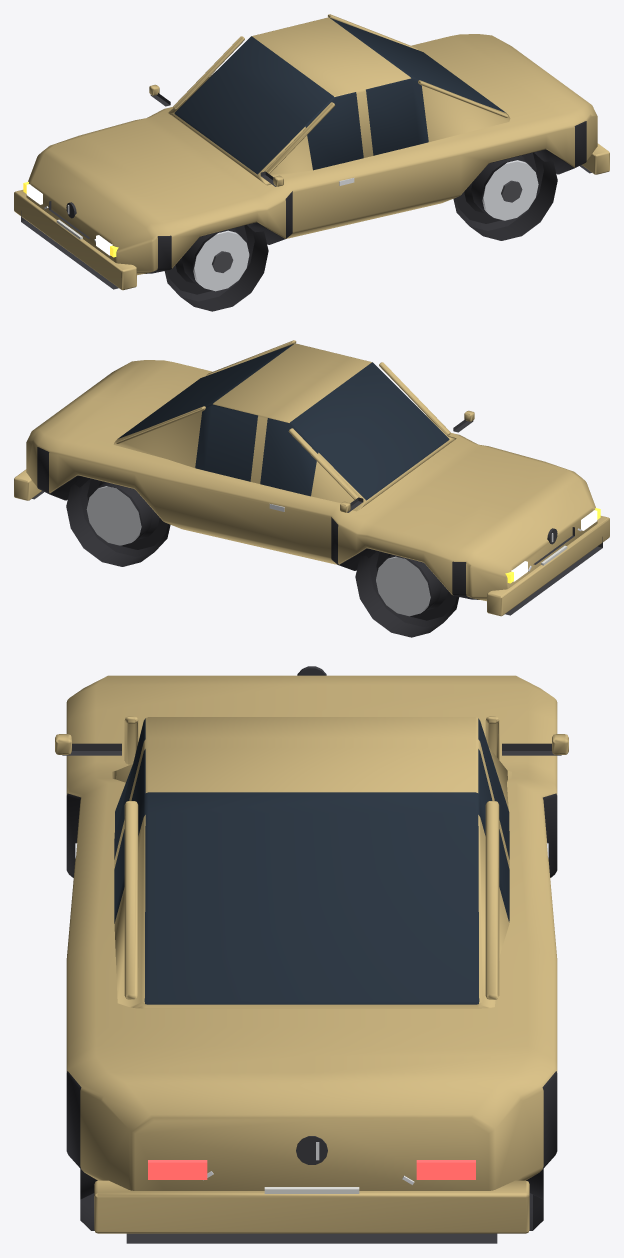
Rendered from car_skywalker.glb.
3 views of the same model, one above another, from view 1: azimuth 30°, elevation 25°; view 2: azimuth 150°, elevation 25°; view 3: azimuth 270°, elevation 25° (orthographic). The views are drawn at different scales.
Size of the model in its own units: 1.9 by 0.6377 by 0.8631.
